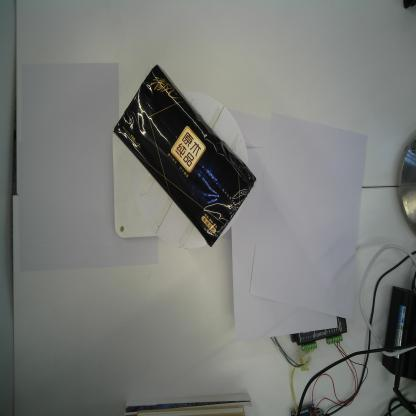Tissue: (112, 62, 258, 249)
